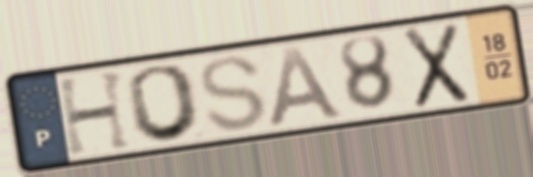8: (337, 34, 396, 117)
A: (266, 43, 349, 130)
H: (53, 66, 136, 159)
O: (125, 61, 206, 145)
S: (196, 53, 271, 134)
X: (399, 19, 473, 113)
